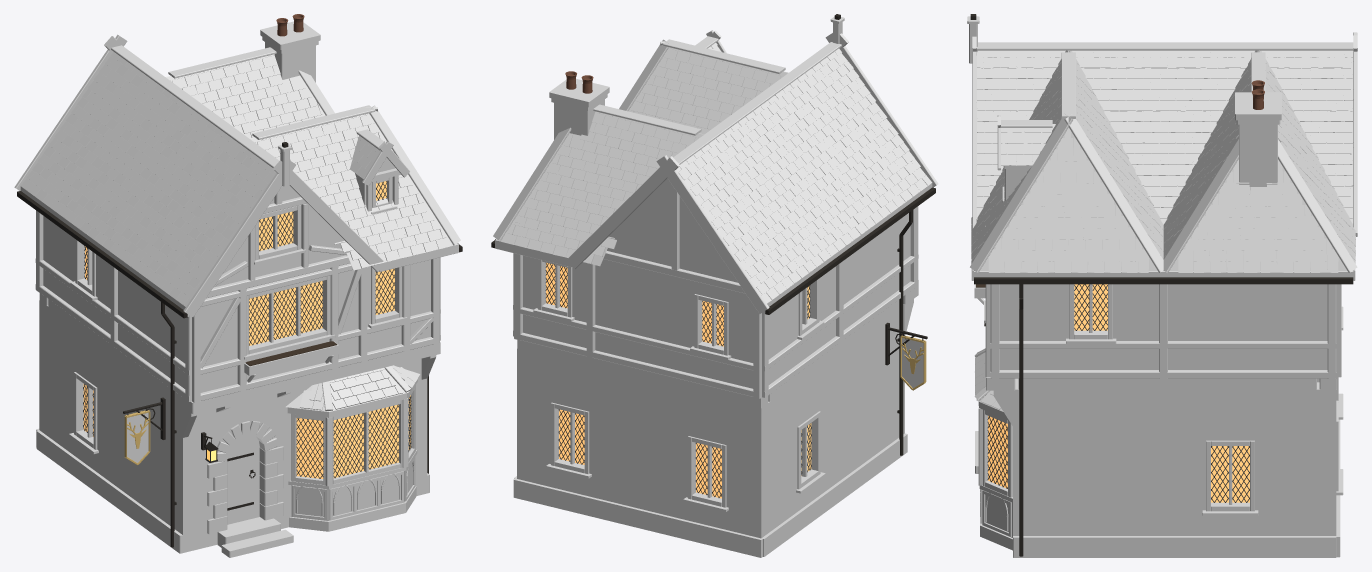
The model's file is SilverbrookTownhouse1.glb.
3 renders of one model, left to right at view 1: azimuth 30°, elevation 25°; view 2: azimuth 150°, elevation 25°; view 3: azimuth 270°, elevation 25°, orthographic. The views are drawn at different scales.
Parts seen in each view (by area): view 1: SM_SBTownhouse1_Roof, SM_SBTownhouse1_Timber, SM_SBTownhouse1_Masonry, SM_SBTownhouse1_Plaster, SM_SBTownhouse1_Details, SM_SBTownhouse1_Details_Door1; view 2: SM_SBTownhouse1_Roof, SM_SBTownhouse1_Masonry, SM_SBTownhouse1_Timber, SM_SBTownhouse1_Plaster, SM_SBTownhouse1_Details; view 3: SM_SBTownhouse1_Roof, SM_SBTownhouse1_Masonry, SM_SBTownhouse1_Timber, SM_SBTownhouse1_Plaster, SM_SBTownhouse1_Details.
Boxes of the visible parts, x1,y1,x2,y2 form: SM_SBTownhouse1_Roof: (21,45,460,411); SM_SBTownhouse1_Timber: (14,34,458,520); SM_SBTownhouse1_Masonry: (36,21,429,557); SM_SBTownhouse1_Plaster: (43,158,430,392); SM_SBTownhouse1_Details: (17,14,462,547); SM_SBTownhouse1_Details_Door1: (227,435,259,524); SM_SBTownhouse1_Roof: (493,36,931,303); SM_SBTownhouse1_Masonry: (513,78,907,557); SM_SBTownhouse1_Timber: (495,16,938,511); SM_SBTownhouse1_Plaster: (523,178,910,388); SM_SBTownhouse1_Details: (491,14,935,498); SM_SBTownhouse1_Roof: (970,42,1357,411); SM_SBTownhouse1_Masonry: (975,92,1340,557); SM_SBTownhouse1_Timber: (967,16,1357,537); SM_SBTownhouse1_Plaster: (999,161,1327,369); SM_SBTownhouse1_Details: (970,14,1353,556).
Size of the model in its own units: 7.08 by 8.97 by 7.
